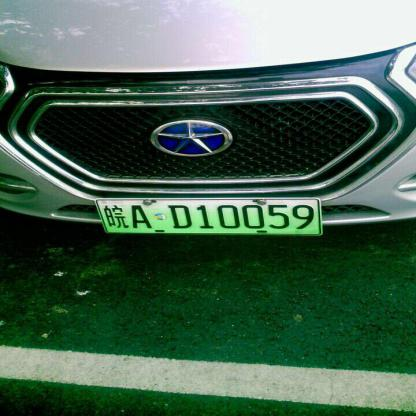lp: (98, 200, 319, 232)
